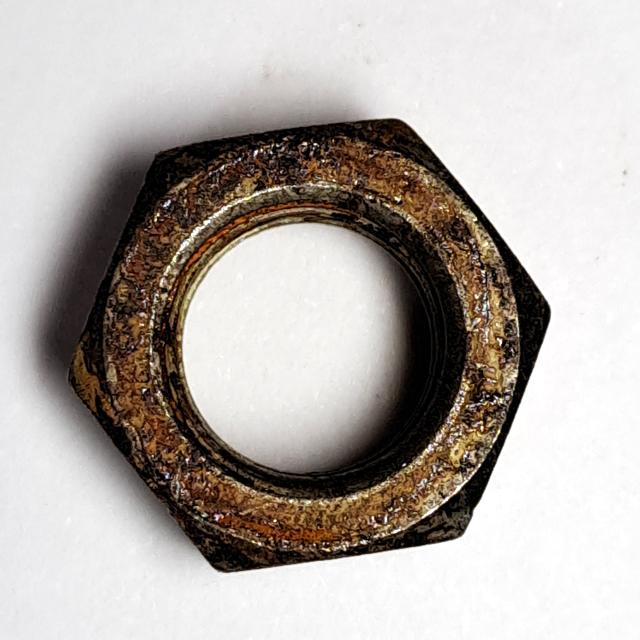Rust: (59, 104, 564, 592)
